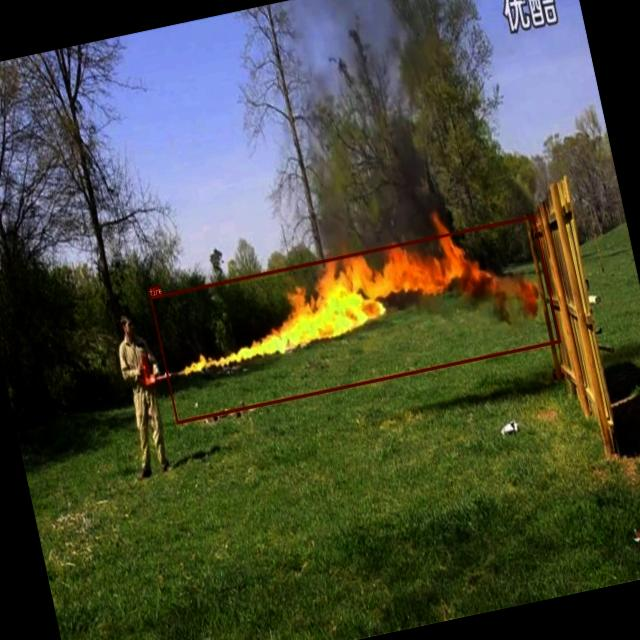fire: (150, 214, 560, 423)
